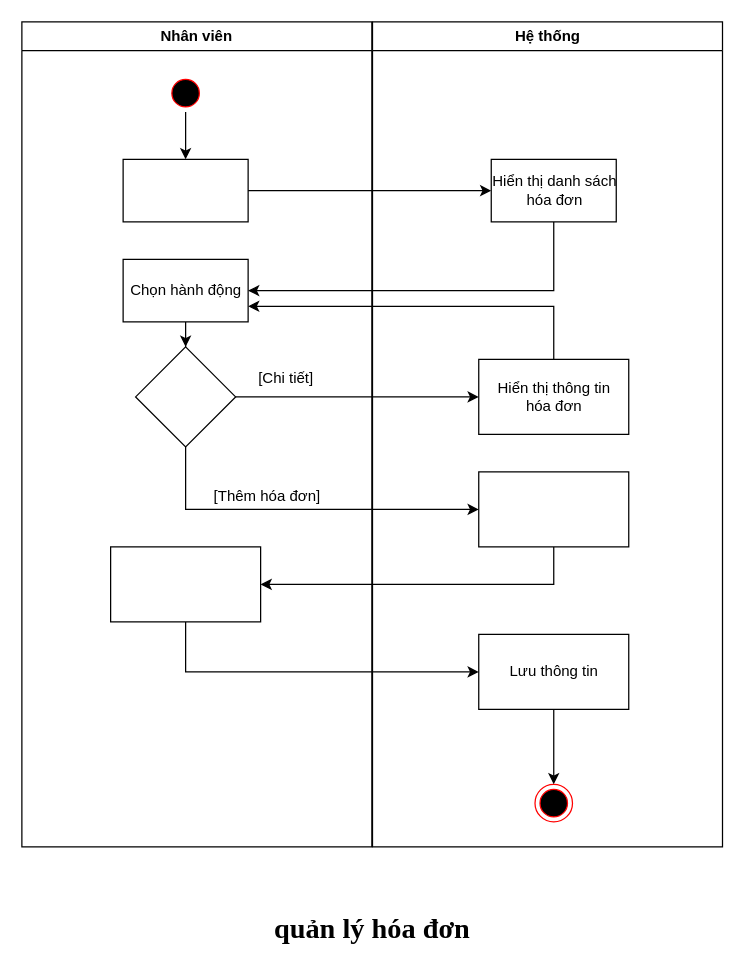
Image size: 745x969. Some labels were removed from this diagram. Here are the shapes that lost their labels. From the top down, the box of each, then its label:
(122, 158, 248, 222): Chọn quản lý hóa đơn
(478, 471, 629, 547): Hiển thị giao diện thêm hóa đơn
(109, 546, 261, 622): Nhập thông tin
